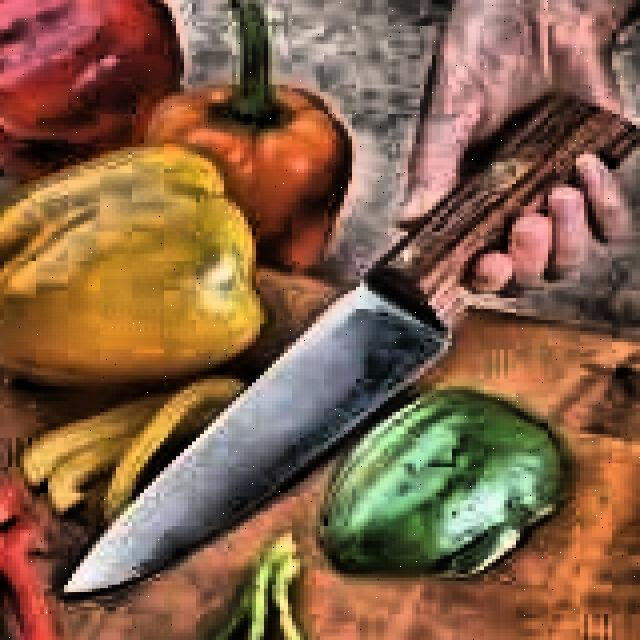knife: (60, 88, 640, 596)
